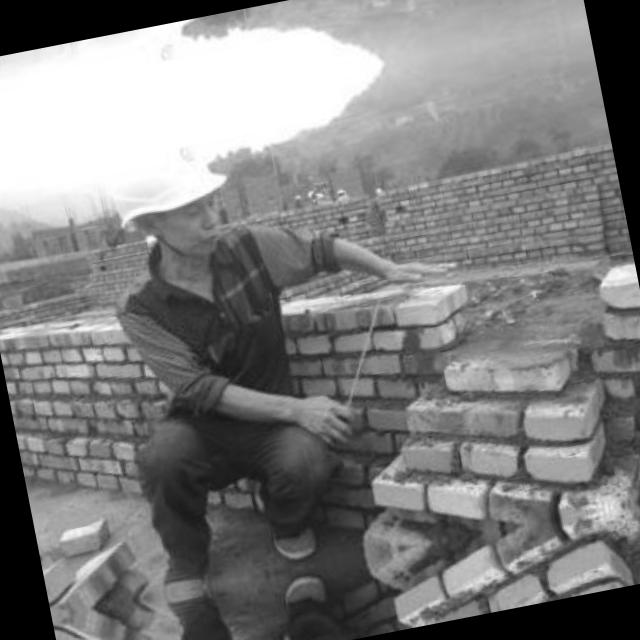helmet: (99, 123, 232, 266), (78, 20, 200, 96)
